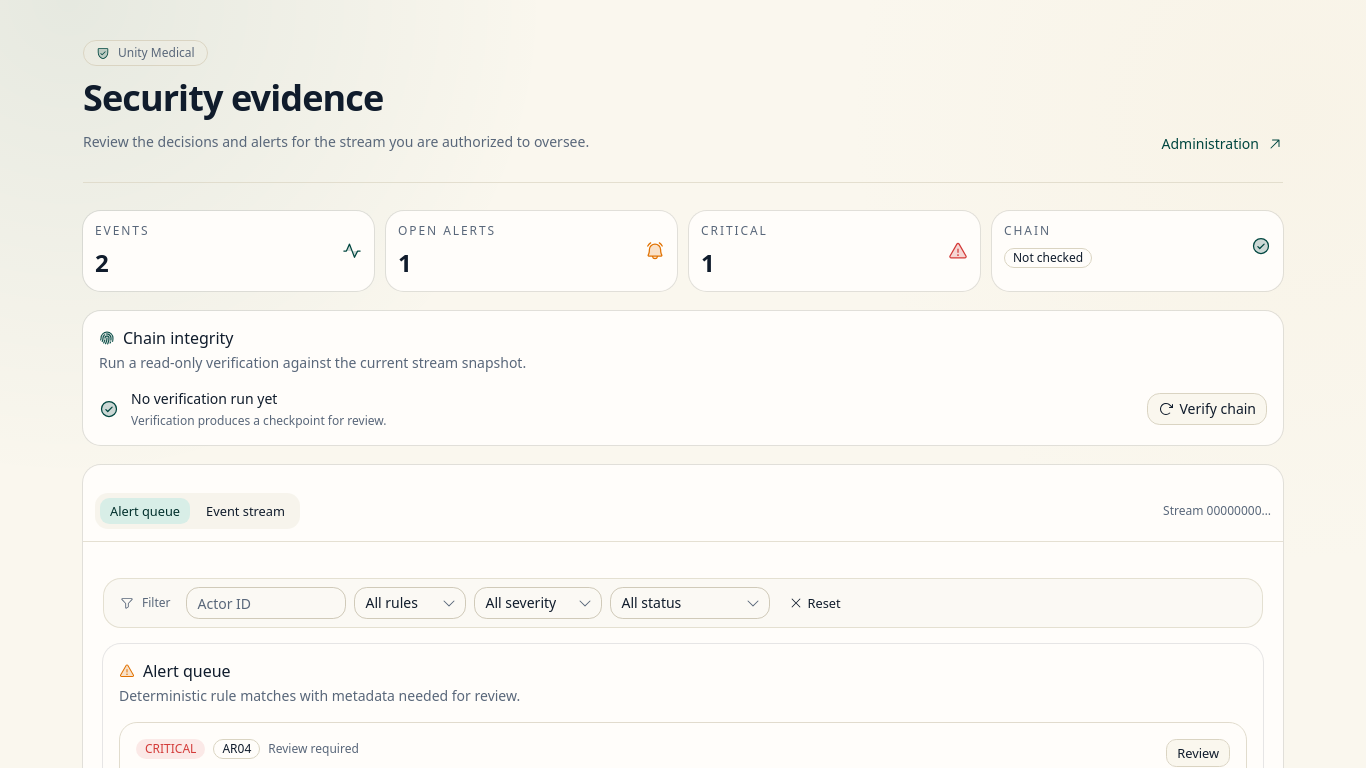
Test: requires a review explanation before changing an alert
Click the button "Review" at (1198, 753), box [1166,739,1230,767]
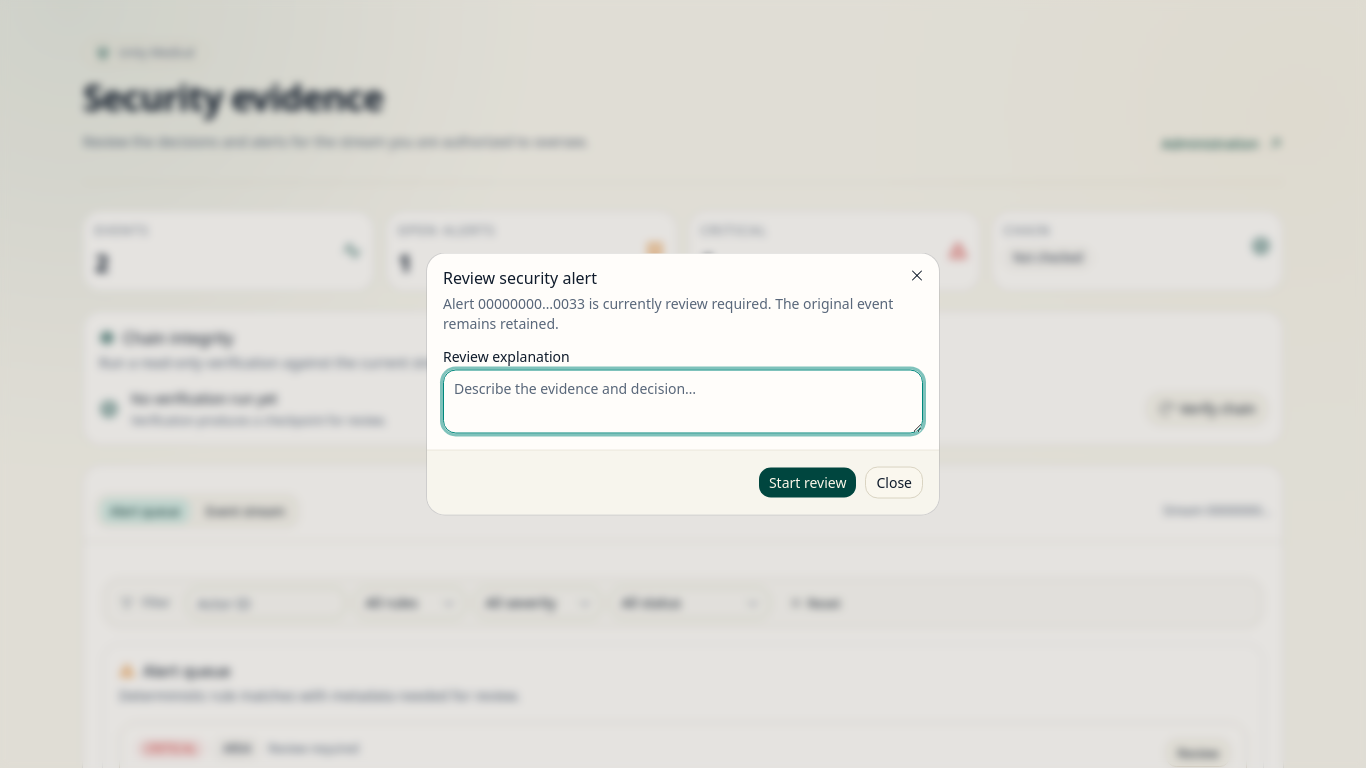
Now the dialog is shown, box [427,254,939,514]
Click the button "Start review" at (808, 482), box [758,466,857,498]
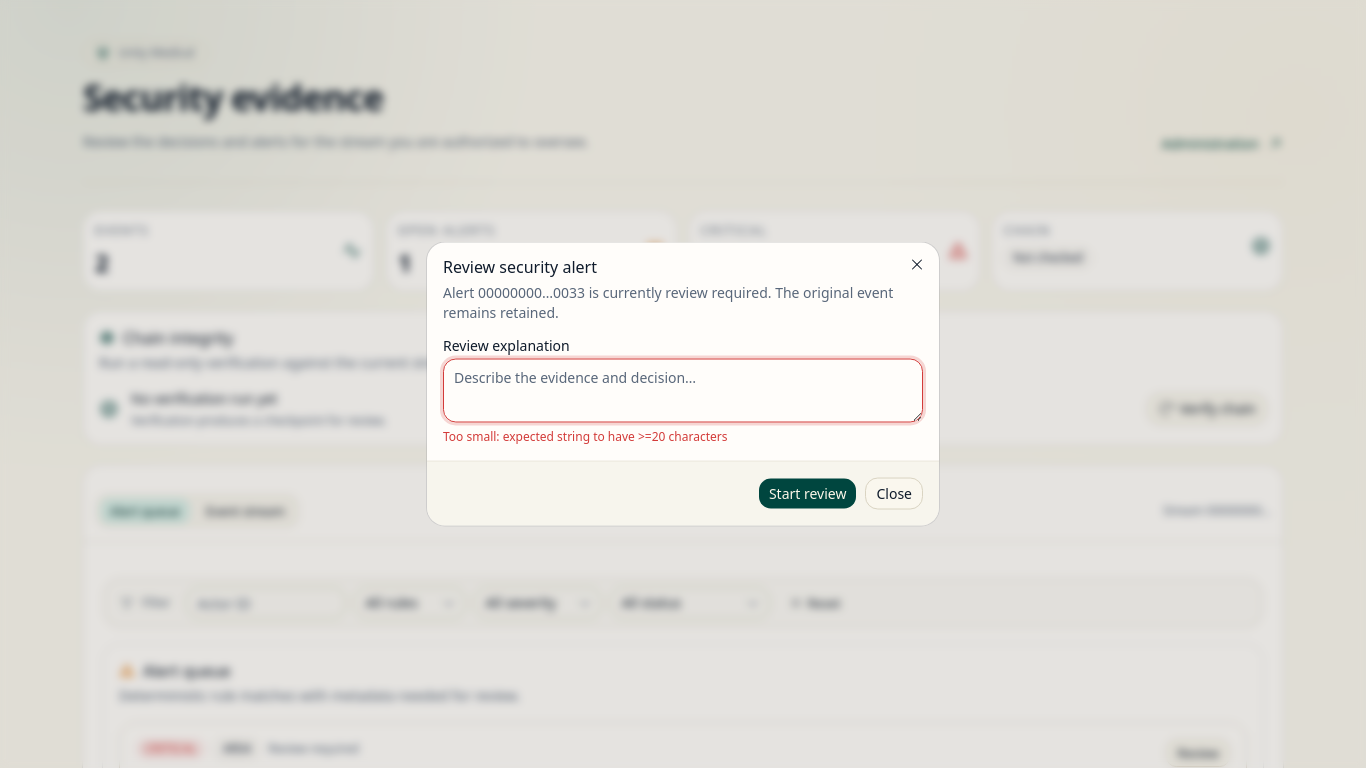
Now the text box labelled "Review explanation" is shown
Type "The recorded emergency context is being reviewed by security." into the text box labelled "Review explanation" at (683, 390), box [443,358,923,422]
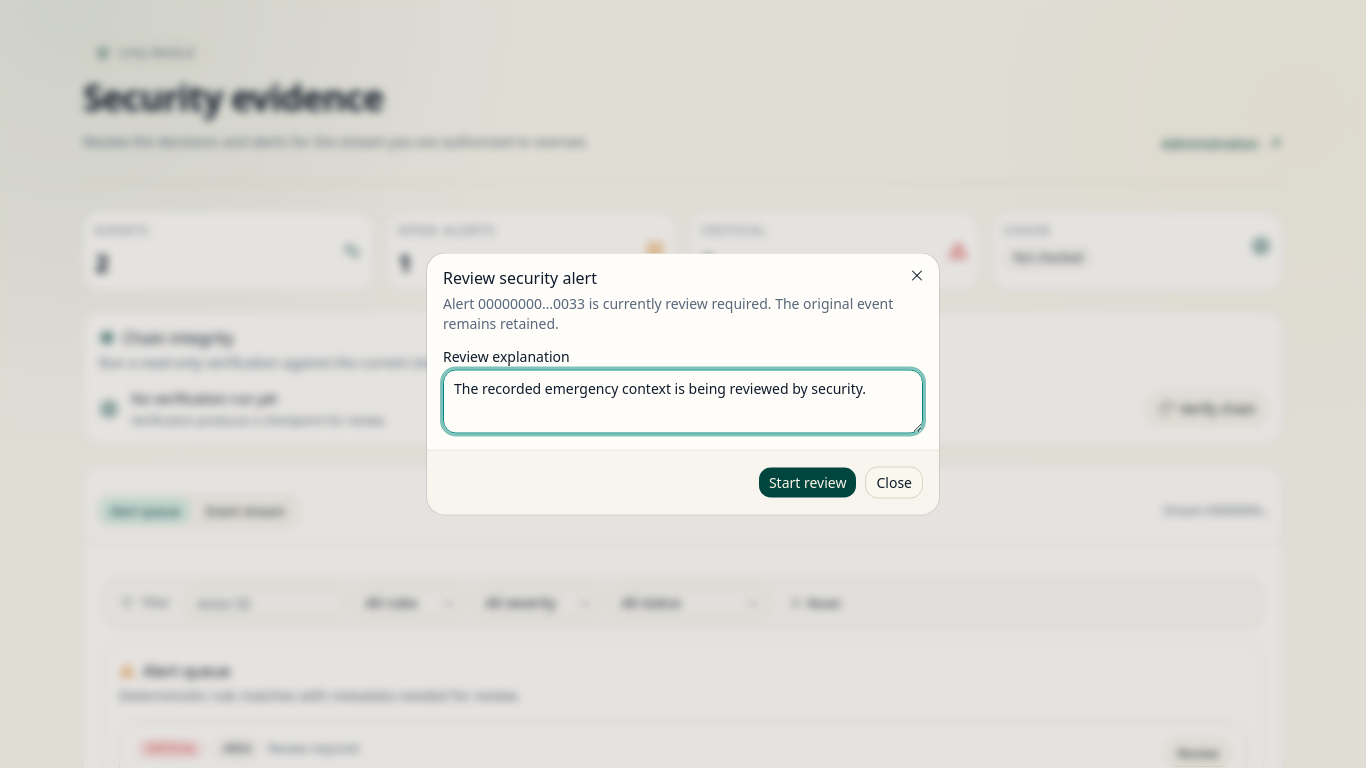
Click the button "Start review" at (808, 482), box [758,466,857,498]
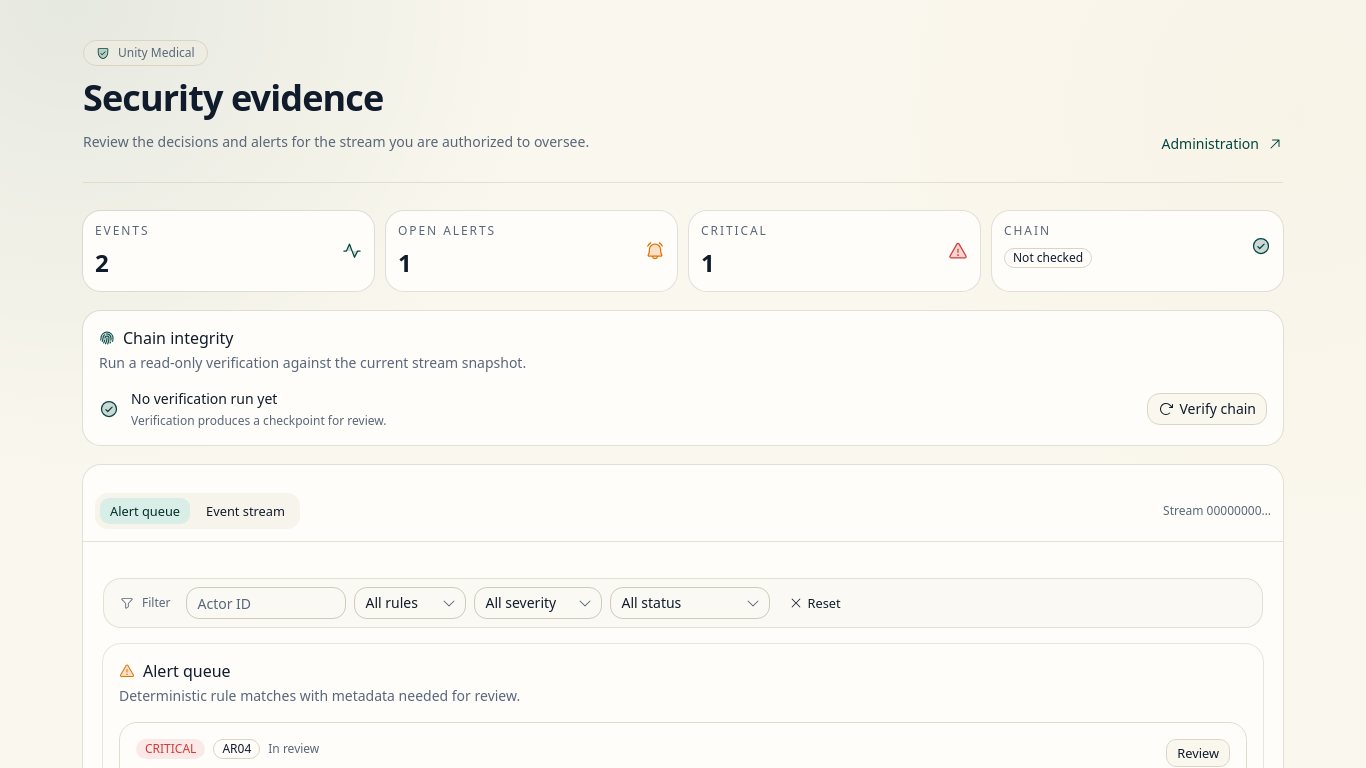
Now the text "In review" is shown, box [268,741,319,757]
